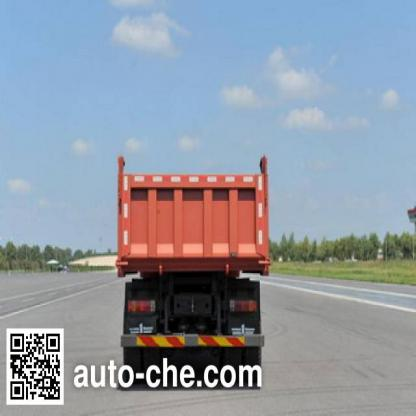normal-truck: (116, 141, 274, 351)
